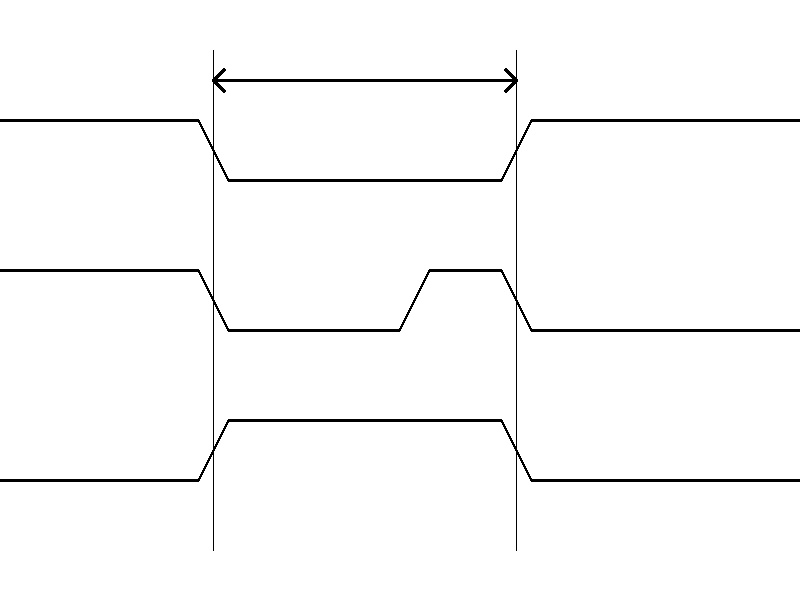double_arrow: (213, 65, 516, 95)
